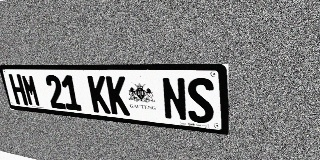1: (59, 75, 82, 111)
2: (44, 75, 66, 109)
H: (8, 74, 28, 106)
K: (106, 76, 130, 116), (87, 76, 111, 114)
M: (21, 74, 41, 107)
N: (161, 77, 188, 122)
S: (186, 78, 214, 124)
